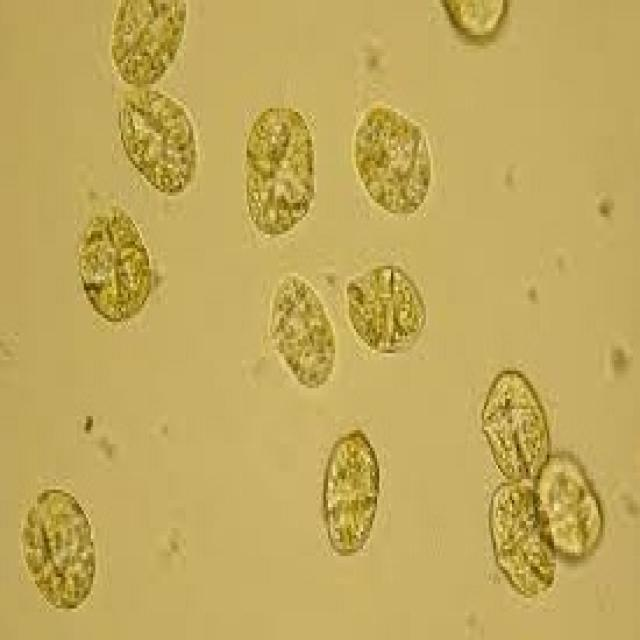Karenia: (476, 380, 606, 604), (117, 93, 209, 208), (357, 95, 434, 228), (21, 489, 106, 609), (247, 89, 317, 234), (76, 207, 159, 327), (268, 271, 343, 392), (351, 261, 426, 361), (110, 1, 198, 81), (326, 434, 381, 559)
